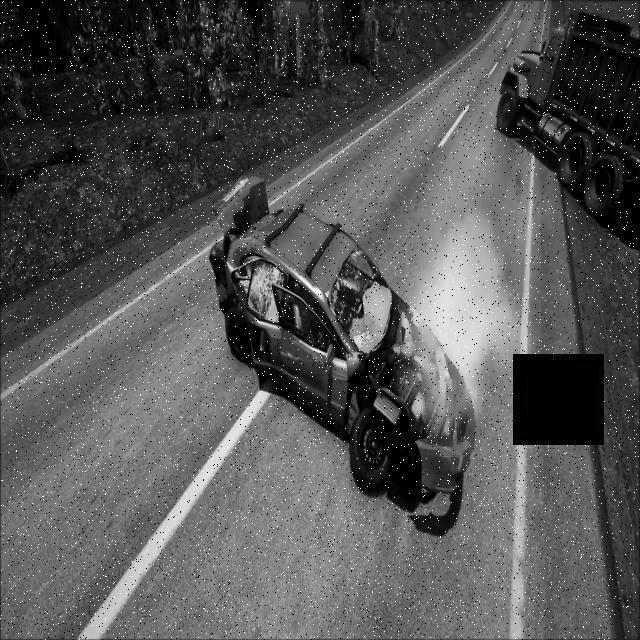accident: (206, 169, 480, 503)
vehicle: (495, 11, 640, 243)
